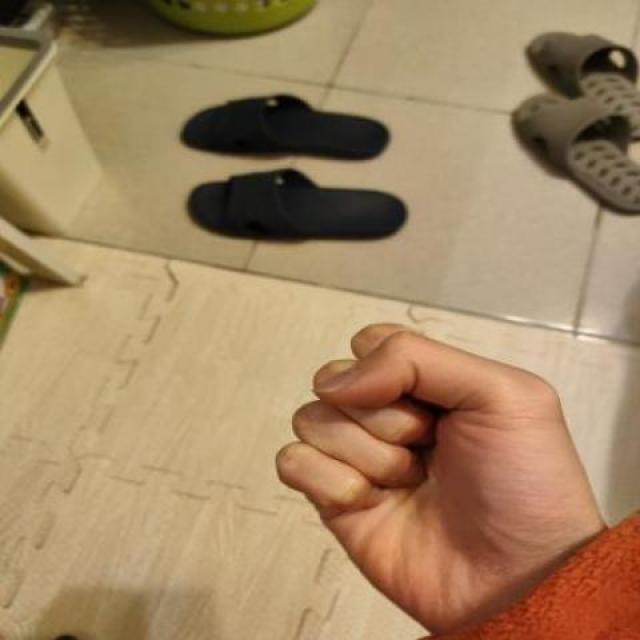fist: (264, 319, 632, 636)
